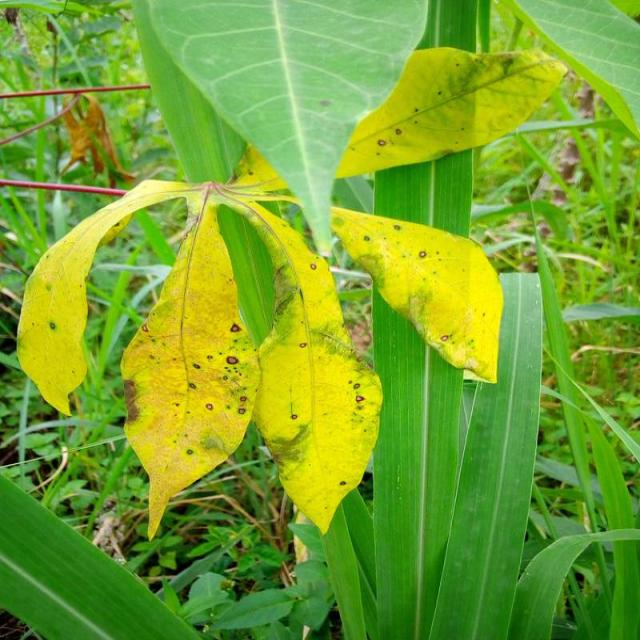cassava leaf: (132, 0, 430, 255), (329, 203, 504, 384), (334, 44, 568, 179)
